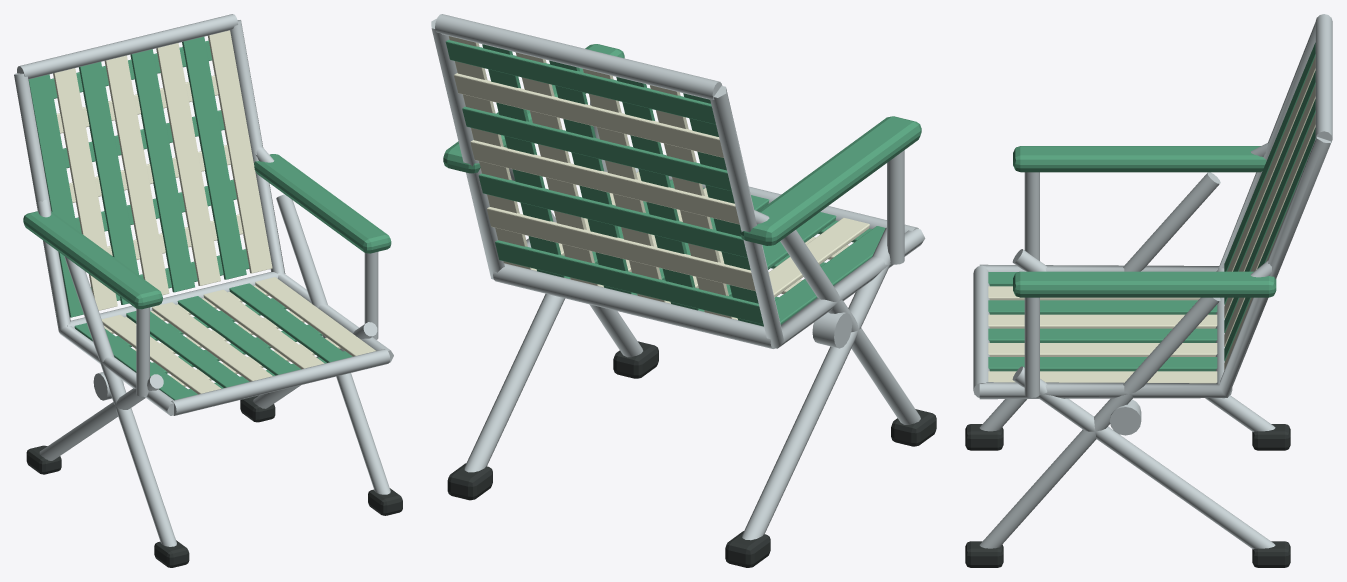
File: lawn_chair_folding.glb
The picture shows the model from 3 angles, left to right: view 1: azimuth 30°, elevation 25°; view 2: azimuth 150°, elevation 25°; view 3: azimuth 270°, elevation 25°; orthographic projection. The views are drawn at different scales.
Visible parts, largest first — view 1: Lengthwise woven back strap.005, Lengthwise woven back strap.006, Lengthwise woven back strap.007, Lengthwise woven back strap.004, Lengthwise woven back strap.003, Lengthwise woven back strap.002, Lengthwise woven back strap.001, Seat and back side rail, Front folding leg, Green armrest, Green armrest.001, Lengthwise woven back strap (+27 smaller); view 2: Green armrest, Seat and back side rail, Backrest top cross rail, Rear folding leg, Rear seat cross rail, Crosswise back webbing.006, Crosswise back webbing.005, Crosswise back webbing.004, Crosswise back webbing.003, Crosswise back webbing.002, Crosswise back webbing.001, Crosswise back webbing (+23 smaller); view 3: Seat and back side rail.001, Green armrest.001, Green armrest, Front folding leg.001, Rear folding leg.001, Front folding leg, Lengthwise woven seat strap.002, Lengthwise woven seat strap.004, Lengthwise woven seat strap.003, Lengthwise woven seat strap.006, Seat and back side rail, Lengthwise woven seat strap.005 (+20 smaller).
Boxes of the visible parts, x1,y1,x2,y2 form: Lengthwise woven back strap.005: (156, 43, 220, 285); Lengthwise woven back strap.006: (182, 36, 246, 279); Lengthwise woven back strap.007: (208, 30, 272, 273); Lengthwise woven back strap.004: (130, 49, 194, 292); Lengthwise woven back strap.003: (104, 55, 169, 295); Lengthwise woven back strap.002: (79, 62, 139, 304); Lengthwise woven back strap.001: (53, 68, 117, 310); Seat and back side rail: (14, 73, 173, 415); Front folding leg: (64, 256, 176, 546); Green armrest: (23, 211, 162, 309); Green armrest.001: (254, 154, 391, 253); Lengthwise woven back strap: (28, 74, 83, 317); Green armrest: (740, 116, 921, 245); Seat and back side rail: (710, 86, 925, 348); Backrest top cross rail: (435, 14, 722, 99); Rear folding leg: (742, 227, 890, 540); Rear seat cross rail: (493, 263, 775, 348); Crosswise back webbing.006: (445, 39, 715, 124); Crosswise back webbing.005: (454, 73, 723, 157); Crosswise back webbing.004: (462, 106, 731, 191); Crosswise back webbing.003: (470, 140, 739, 224); Crosswise back webbing.002: (478, 173, 747, 257); Crosswise back webbing.001: (487, 207, 755, 291); Crosswise back webbing: (495, 240, 763, 324); Seat and back side rail.001: (979, 137, 1331, 399); Green armrest.001: (1013, 271, 1276, 297); Green armrest: (1013, 146, 1266, 172); Front folding leg.001: (979, 297, 1220, 548); Rear folding leg.001: (1012, 366, 1275, 549); Front folding leg: (979, 172, 1220, 431); Lengthwise woven seat strap.002: (988, 300, 1217, 314); Lengthwise woven seat strap.004: (988, 328, 1217, 342); Lengthwise woven seat strap.003: (988, 314, 1217, 328); Lengthwise woven seat strap.006: (988, 357, 1217, 371); Seat and back side rail: (979, 22, 1315, 271); Lengthwise woven seat strap.005: (988, 343, 1217, 356).
Bounding box in the file's own units: 0.695 × 0.998 × 0.768.
